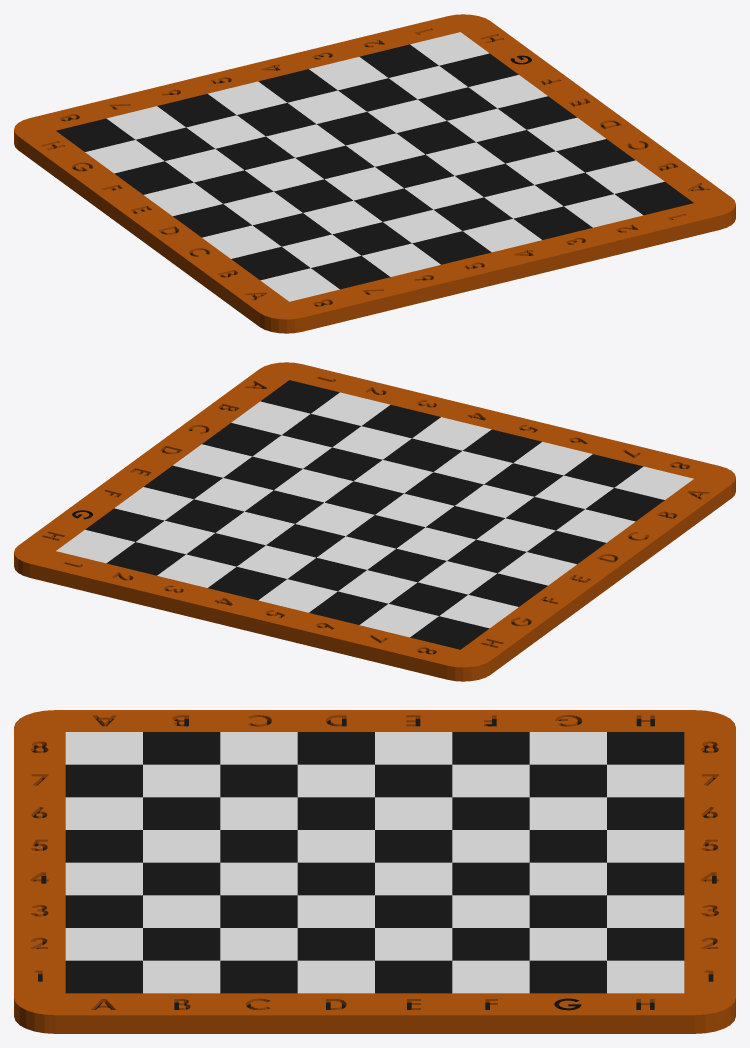
File: table.dae
3 views of the same model, one above another, from view 1: azimuth 30°, elevation 25°; view 2: azimuth 150°, elevation 25°; view 3: azimuth 270°, elevation 25° (orthographic). The views are drawn at different scales.
Parts seen in each view (by area): view 1: Table; view 2: Table; view 3: Table.
Boxes of the visible parts, x1,y1,x2,y2 form: Table: (14,14,735,333); Table: (14,362,735,681); Table: (14,710,735,1033).
Bounding box in the file's own units: 0.35 × 0.35 × 0.01.
